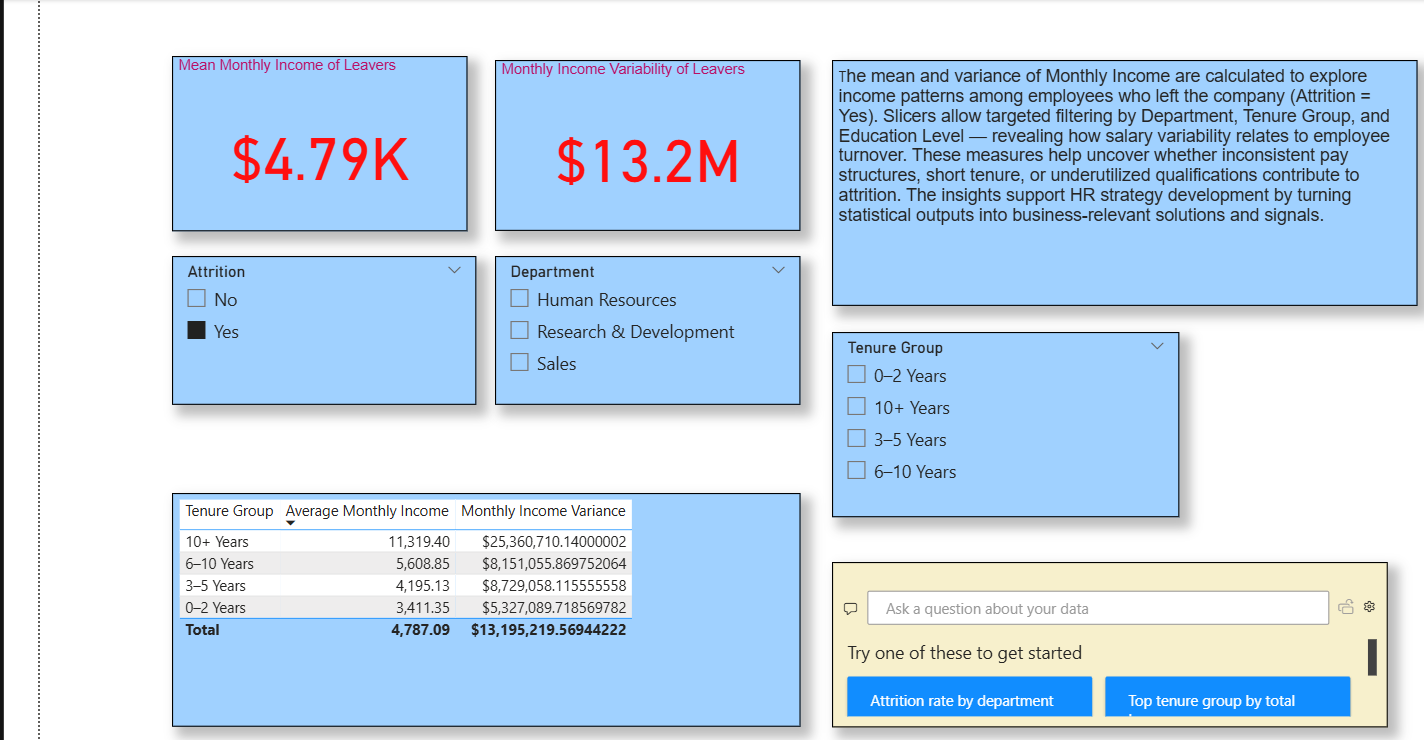

This screenshot's page, from the dashboard's own definition file:
{"tool":"powerbi","page":{"name":"Statistical Insights","canvas":[1280,720],"ordinal":1},"visuals":[{"type":"card","title":"Mean Monthly Income of Leavers","fields":{"Values":["cleaned_employee_data.Mean Monthly Income"]},"box":[119.6,51.6,268.4,158.5],"z":0},{"type":"card","title":"Monthly Income Variability of Leavers","fields":{"Values":["cleaned_employee_data.Monthly Income Variance"]},"box":[412.4,55.4,277.2,154.7],"z":1},{"type":"slicer","fields":{"Values":["cleaned_employee_data.Attrition"]},"box":[119.6,233.4,276.2,135.2],"z":2},{"type":"slicer","fields":{"Values":["cleaned_employee_data.Department"]},"box":[412.4,233.4,277.2,135.2],"z":3},{"type":"slicer","fields":{"Values":["cleaned_employee_data.Tenure Group"]},"box":[717.8,301.5,315.1,168.3],"z":4},{"type":"tableEx","fields":{"Values":["cleaned_employee_data.Tenure Group","cleaned_employee_data.Average Monthly Income","cleaned_employee_data.Monthly Income Variance"]},"box":[119.6,448.4,570,212],"z":5},{"type":"textbox","box":[717.8,55.4,531.1,222.7],"z":6},{"type":"qnaVisual","box":[717.8,510.6,503.8,149.8],"z":7}]}

Visuals, with their boxes on the page's 1280x720 design canvas (x1, y1, x2, y2). These are canvas units, not pixel positions in the 1424x740 screenshot, which may show the page scaled, cropped or inside an application window:
"Mean Monthly Income of Leavers" card: 120:52:388:210
"Monthly Income Variability of Leavers" card: 412:55:690:210
slicer - cleaned_employee_data.Attrition: 120:233:396:369
slicer - cleaned_employee_data.Department: 412:233:690:369
slicer - cleaned_employee_data.Tenure Group: 718:302:1033:470
tableEx - cleaned_employee_data.Tenure Group x cleaned_employee_data.Average Monthly Income: 120:448:690:660
textbox: 718:55:1249:278
qnaVisual: 718:511:1222:660
